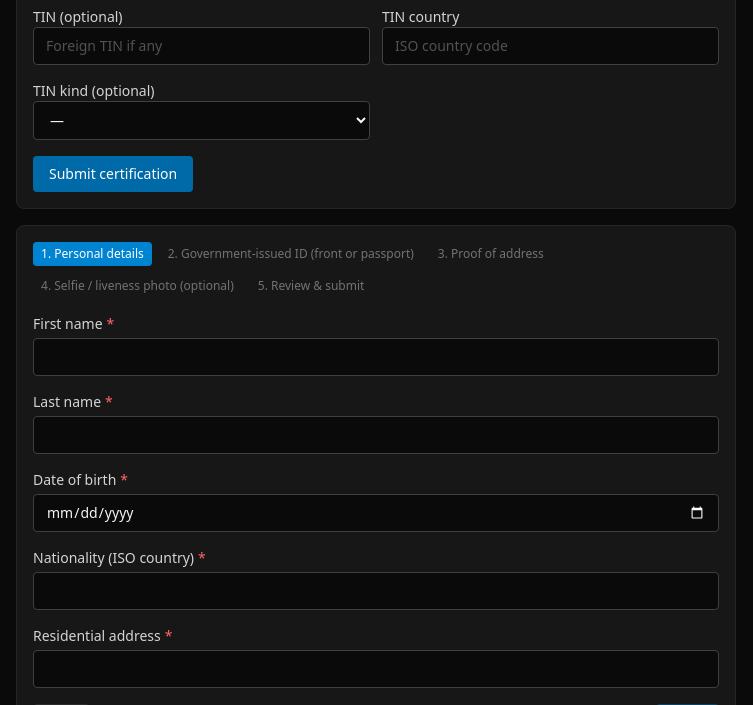
Test: KycPage › falls back to the default checklist when requirements fail
(page scrolled)
Step 1. Type "A" into the field labelled "First name*" → (376, 357), box [33,338,719,376]
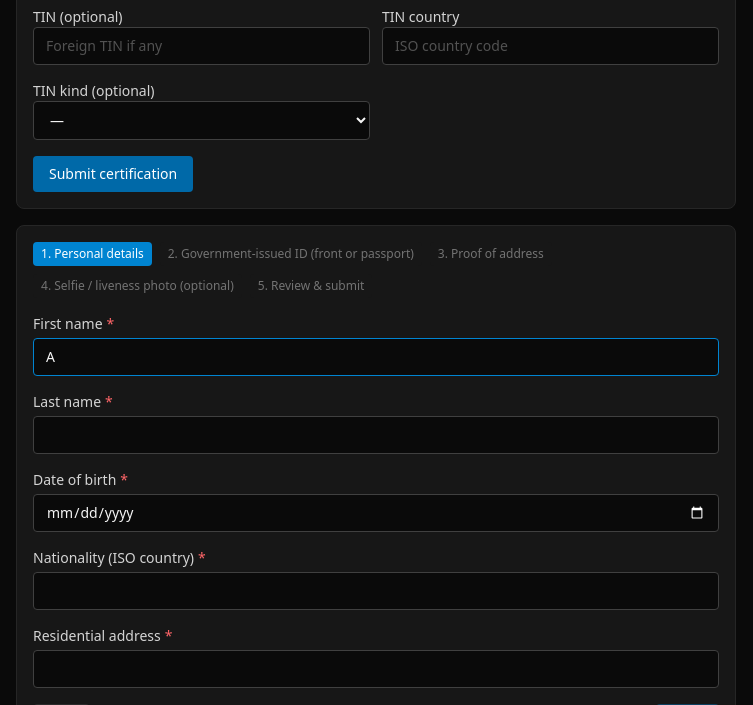
Step 2. Type "B" into the field labelled "Last name*" → (376, 435), box [33,416,719,454]
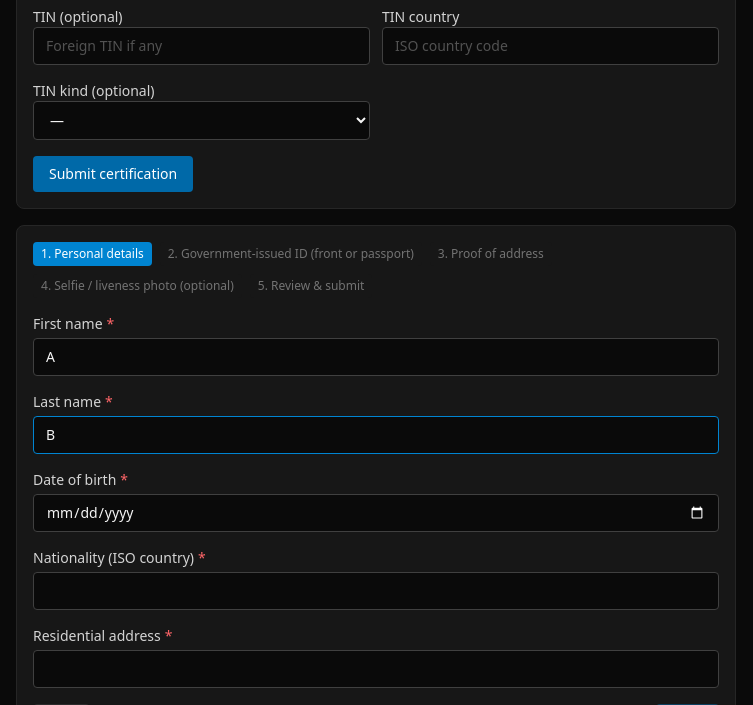
Step 3. Type "1990-01-01" into the date field labelled "Date of birth*" → (376, 513), box [33,494,719,532]
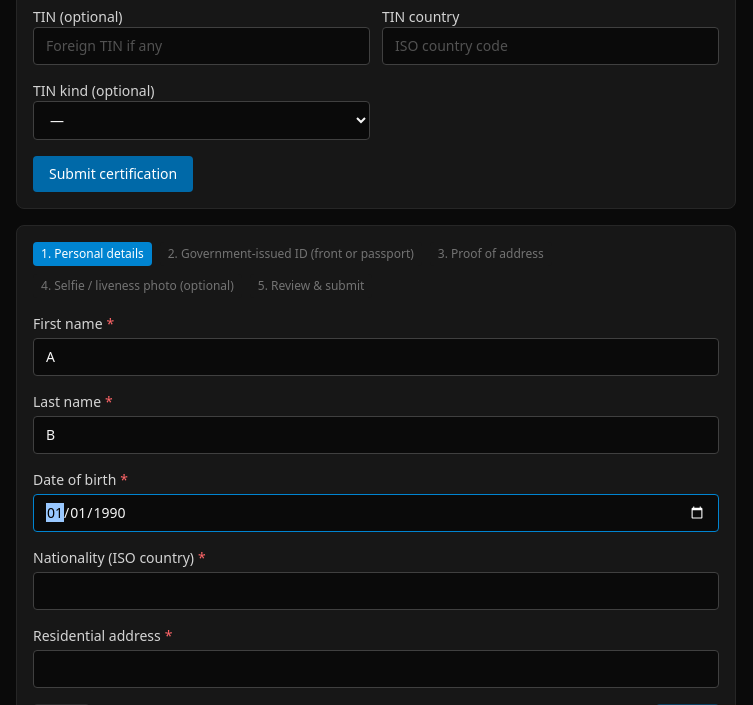
Step 4. Type "CH" into the field labelled "Nationality (ISO country)*" → (376, 591), box [33,572,719,610]
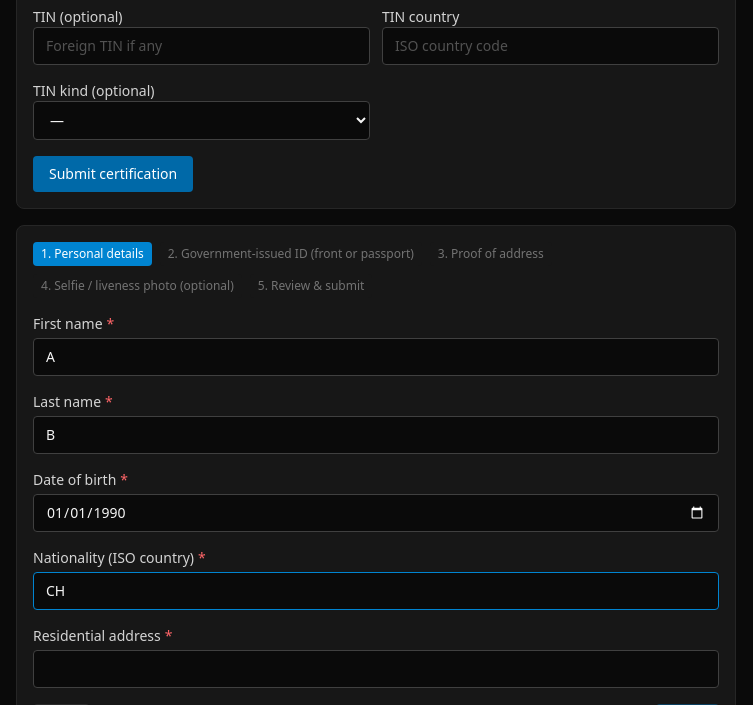
Step 5. Type "X" into the field labelled "Residential address*" → (376, 669), box [33,650,719,688]
(page scrolled)
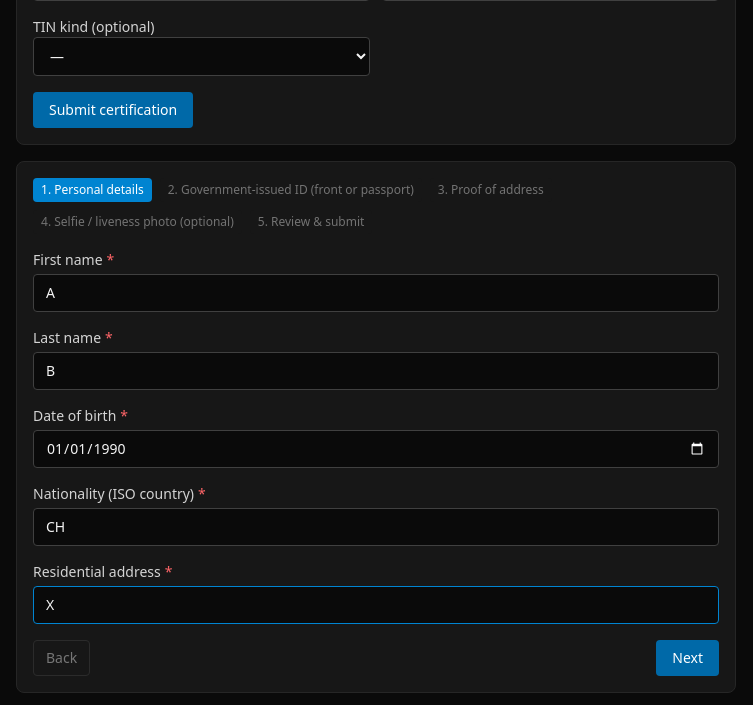
Step 6. Click the button "Next" → click(688, 658), box [656,640,719,676]
(page scrolled)
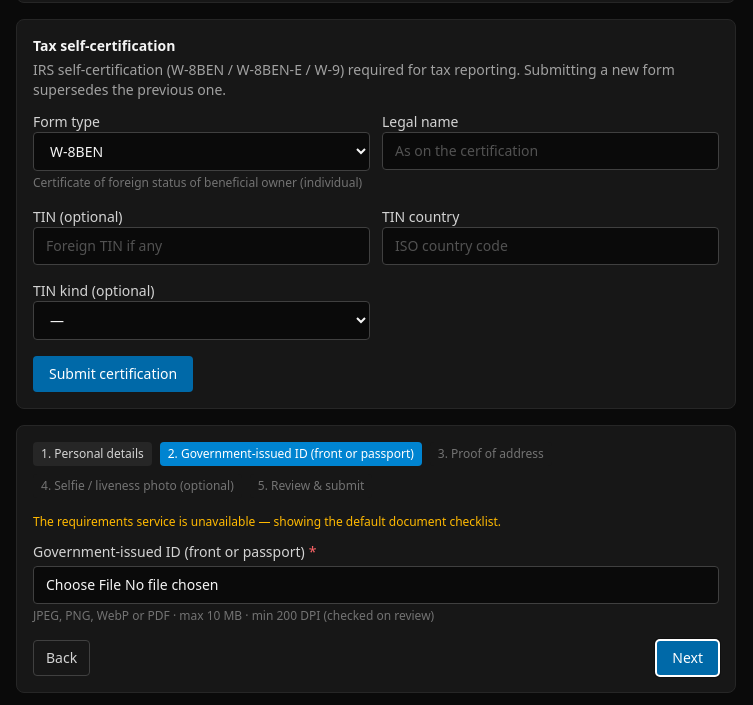
Expected: the text "requirements service is unavailable — showing the default" is shown, [33,513,501,530]
Expected: the file field labelled "Government-issued ID (front or passport)*" is shown, [33,566,719,604]
